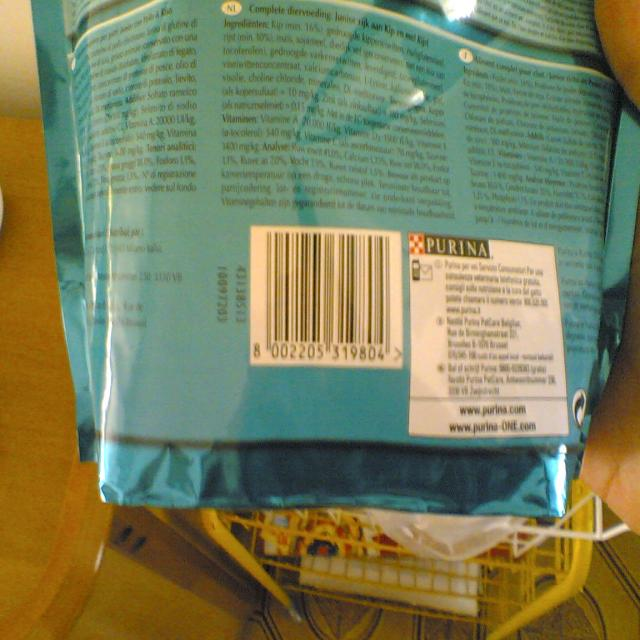barcode: (250, 227, 402, 368)
